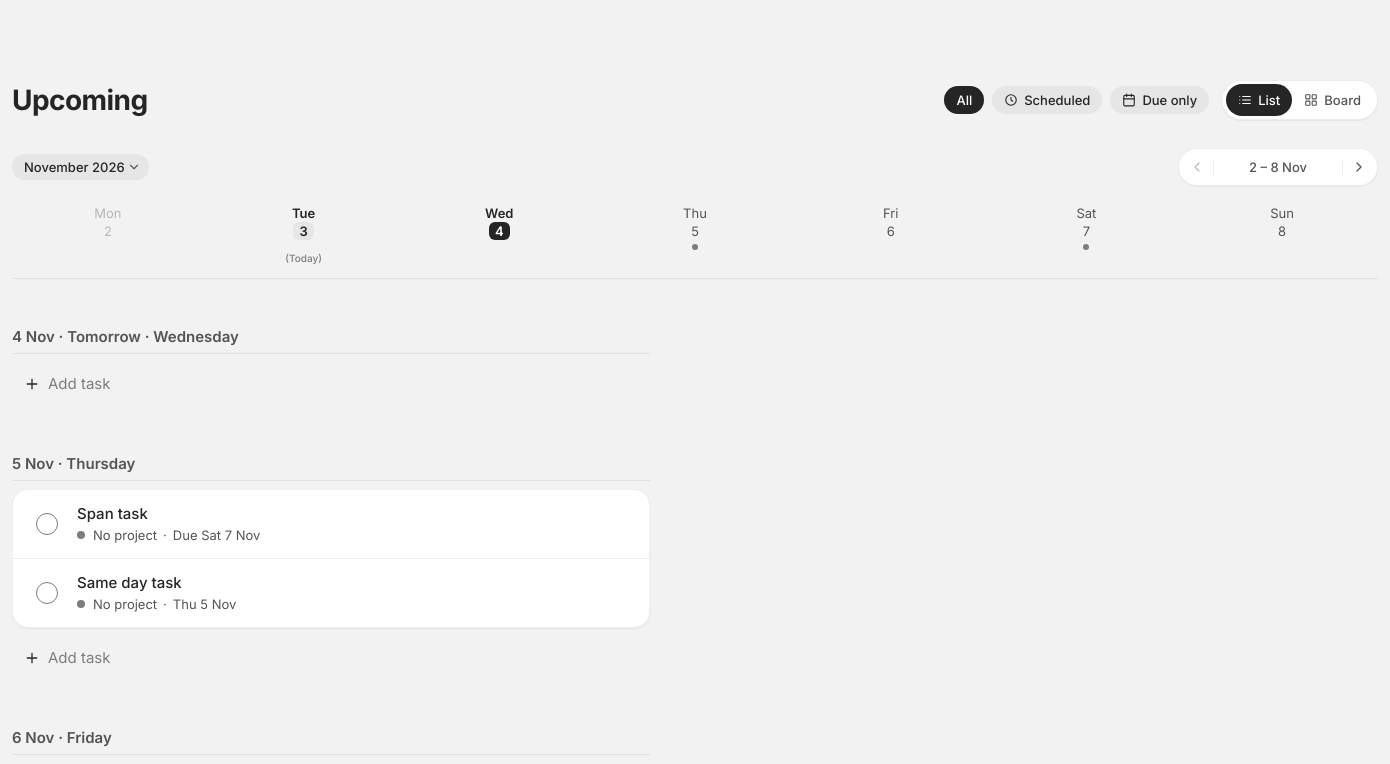
Upcoming screen (Section 8) › a task shows on both days; same day once; ticking on one entry completes both
Check: the element with id "day-2026-11-05" is shown, box [12,430,650,680]
Check: the text "Span task" is shown, box [77,504,148,523]
Click the checkbox named "Complete Span task" at [47, 524], box [25,502,69,546]
Wait 700 ms
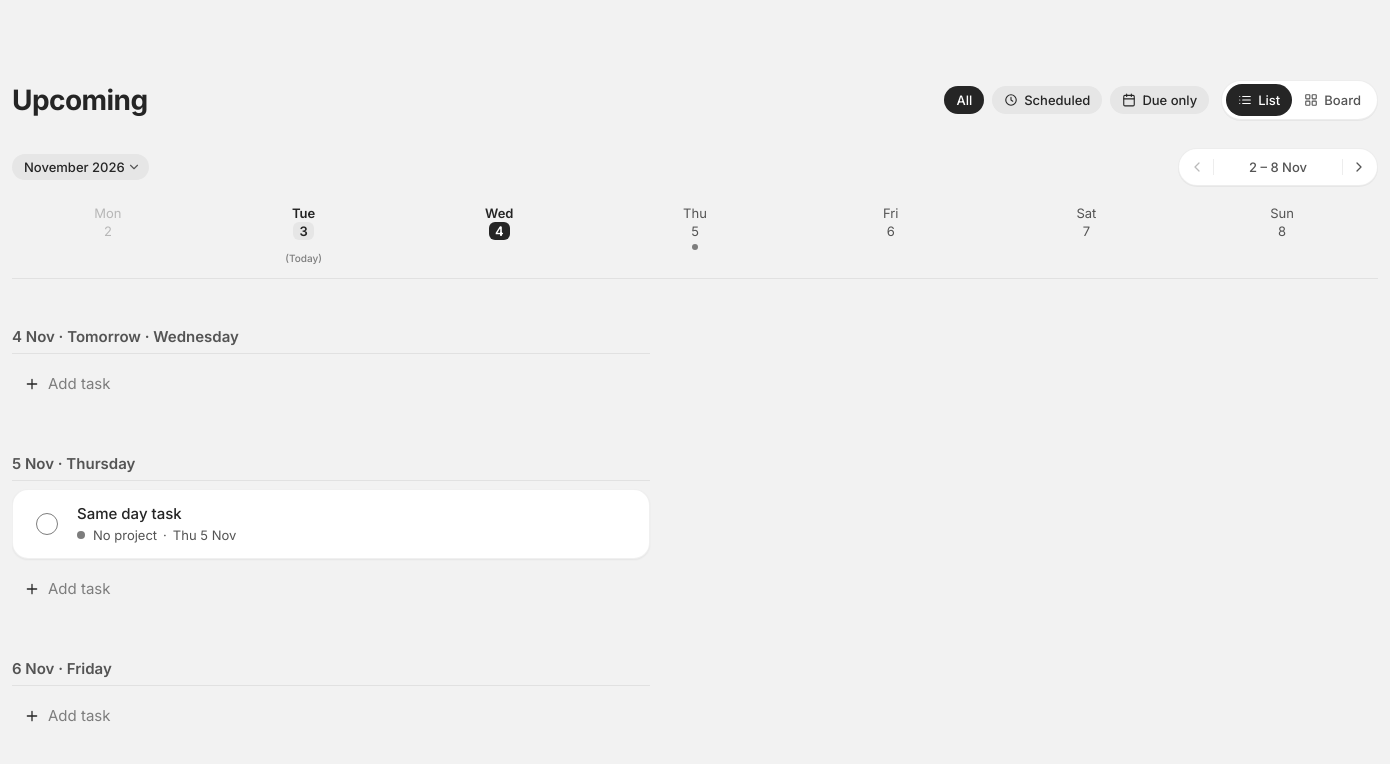
Check: the link "Span task" is gone
